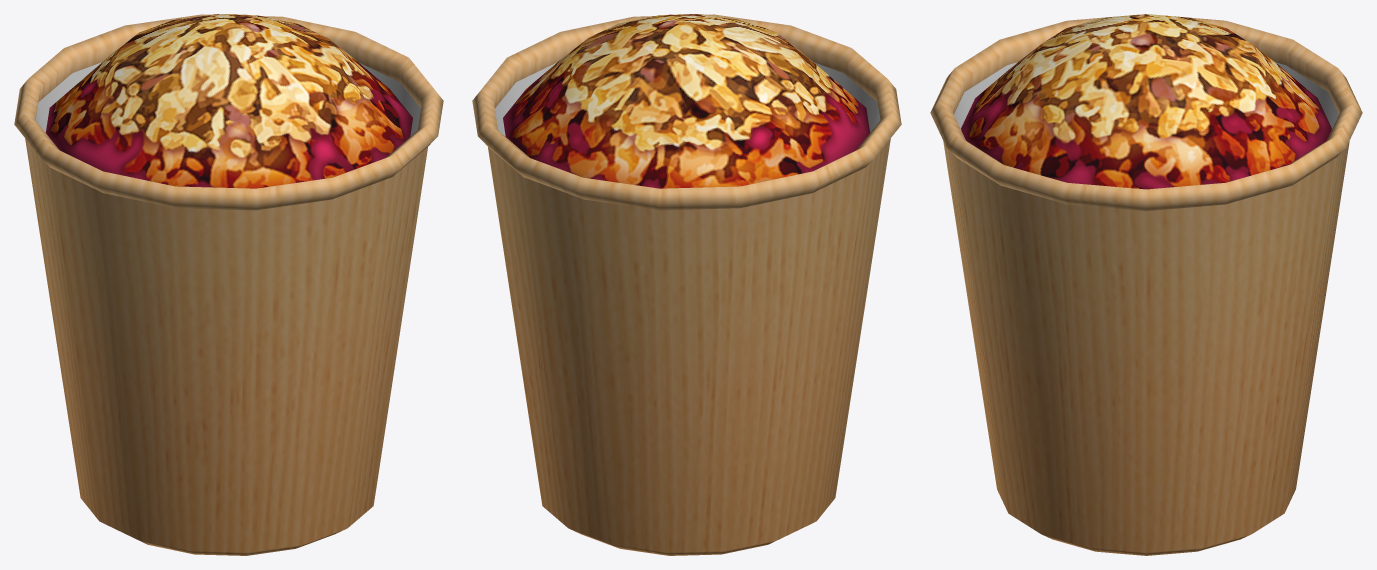
The model's file is 011-Parfait_01.FBX.
The picture shows the model from 3 angles, left to right: view 1: azimuth 30°, elevation 25°; view 2: azimuth 150°, elevation 25°; view 3: azimuth 270°, elevation 25°; orthographic projection.
Visible parts, largest first — view 1: 011-Parfait_01-2, 011-Parfait_01-1; view 2: 011-Parfait_01-2, 011-Parfait_01-1; view 3: 011-Parfait_01-2, 011-Parfait_01-1.
Boxes of the visible parts, left/top/right/bottom form: 011-Parfait_01-2: left=14, top=14, right=443, bottom=555; 011-Parfait_01-1: left=45, top=14, right=412, bottom=188; 011-Parfait_01-2: left=472, top=14, right=901, bottom=555; 011-Parfait_01-1: left=503, top=14, right=870, bottom=188; 011-Parfait_01-2: left=930, top=16, right=1362, bottom=555; 011-Parfait_01-1: left=961, top=14, right=1331, bottom=189.
Size of the model in its own units: 14.13 by 17.16 by 14.13.
